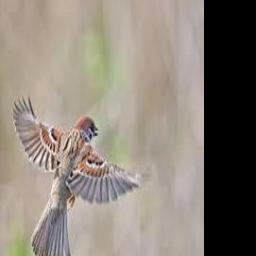Sparrow: (12, 94, 148, 256)
